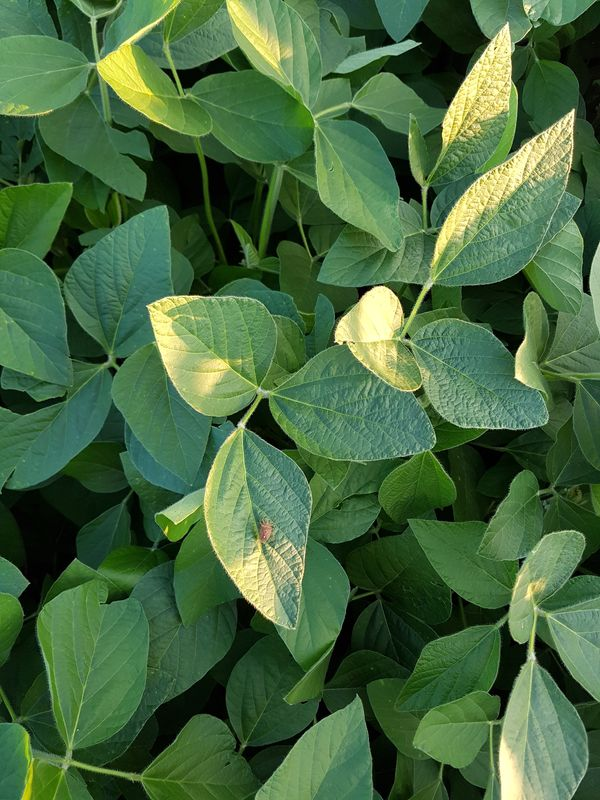Euschistus_heros_adulto: (247, 511, 285, 548)
